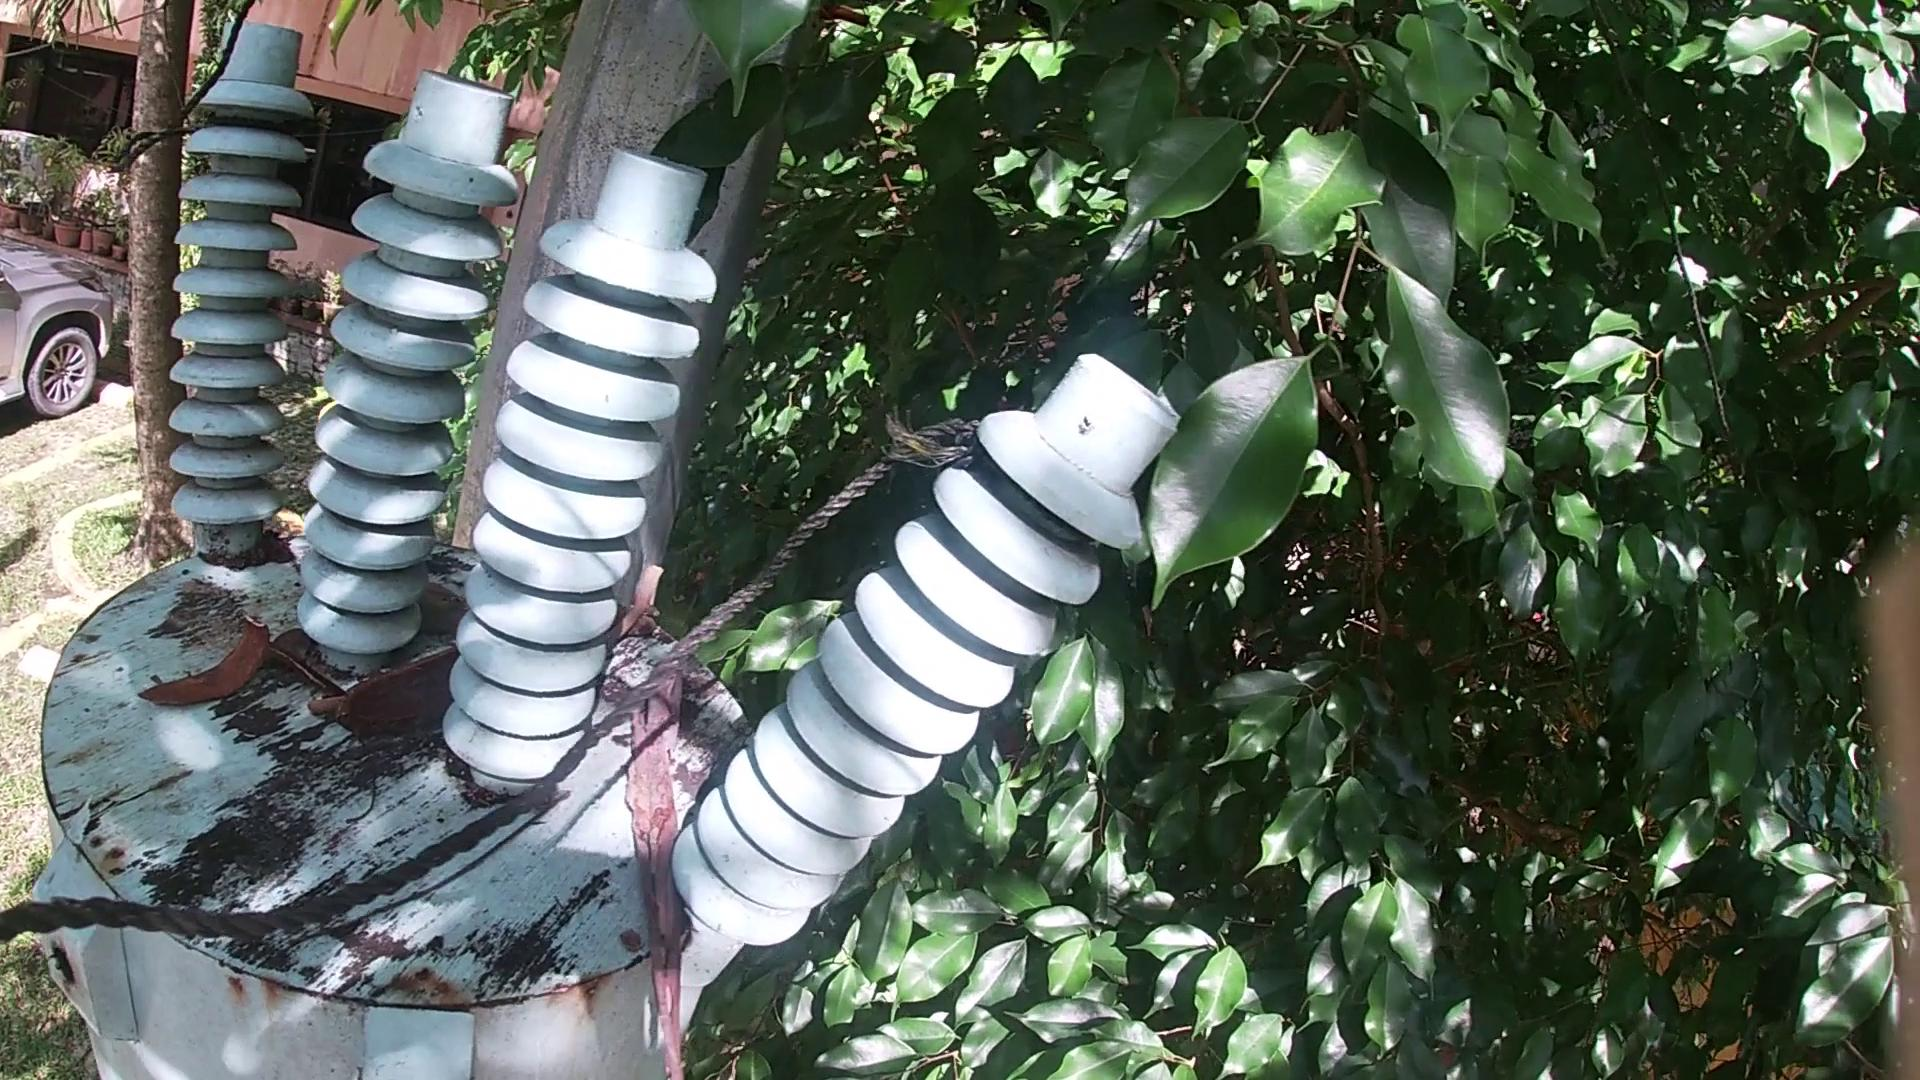leaf: (278, 641, 334, 694)
mahogany fruit: (136, 613, 269, 707), (334, 651, 458, 738)
tree branch: (287, 800, 562, 953), (636, 665, 702, 1080), (607, 564, 671, 644), (339, 760, 392, 829), (615, 607, 659, 638)
